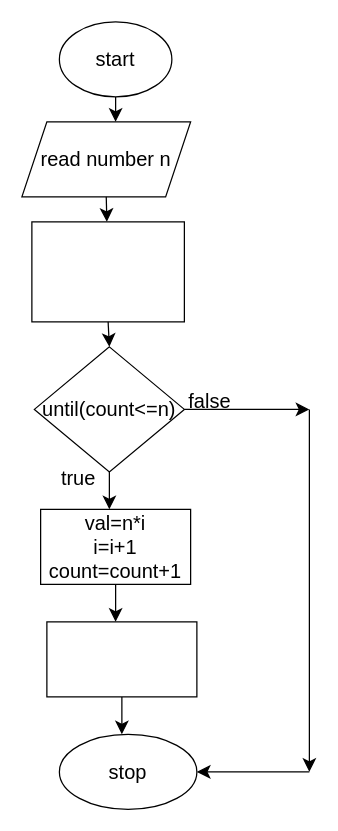
The diagram is 338 pixels wide and 831 high, and some of its shapes have lost their labels. The centre of each missing label's shape, as x and y in pixels:
"initialize val=1 count=1 i=1" belongs at [107,271].
"print val" belongs at [121,659].
